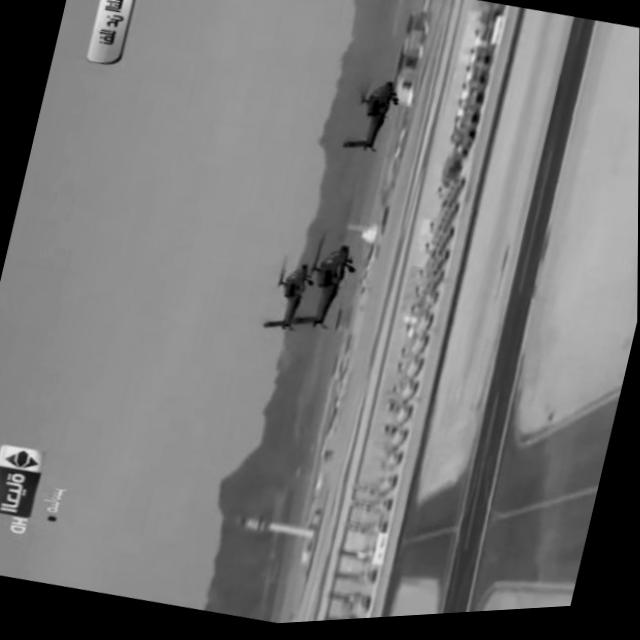helikopter: (236, 216, 384, 380), (313, 61, 422, 183)
